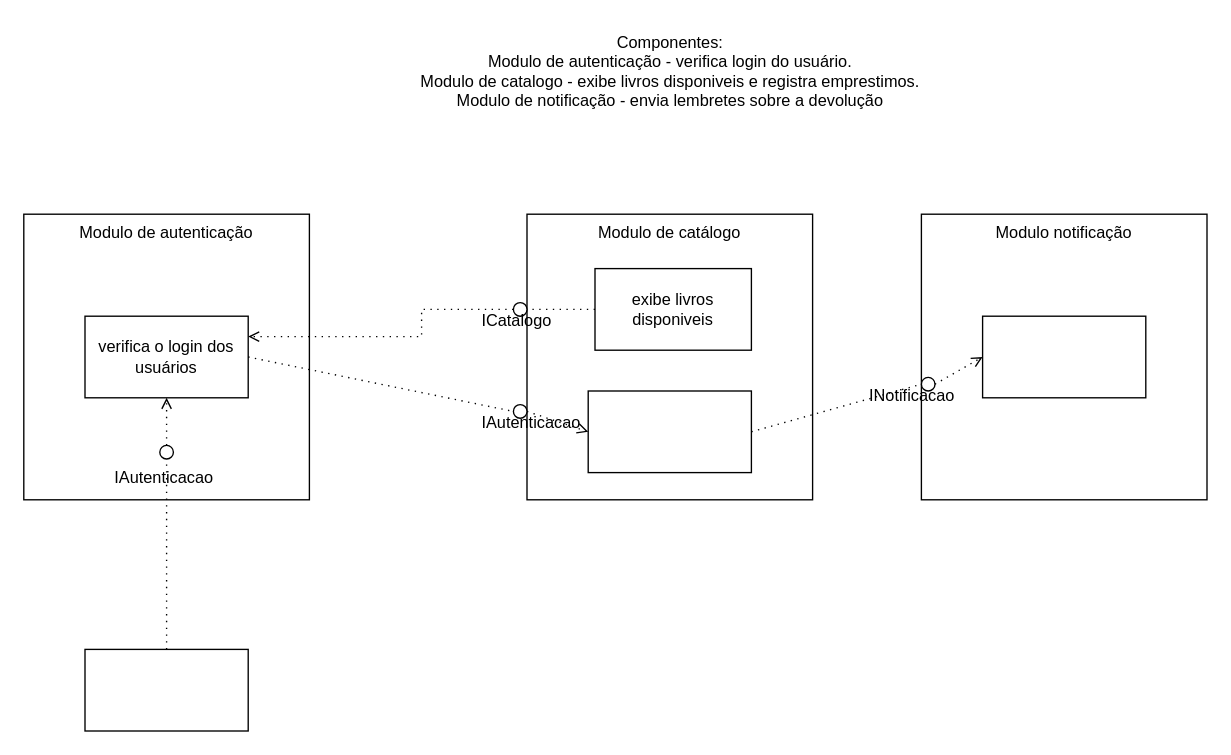
Some shapes in this 1231 by 755 pixel diagram are drawn without their labels. Each missing label, with the centre of its shape:
"<<Actor>> Usuário" goes at (x=166, y=689).
"Envia lembretes sobre a devolução" goes at (x=1063, y=356).
"registra emprestimos" goes at (x=669, y=431).
